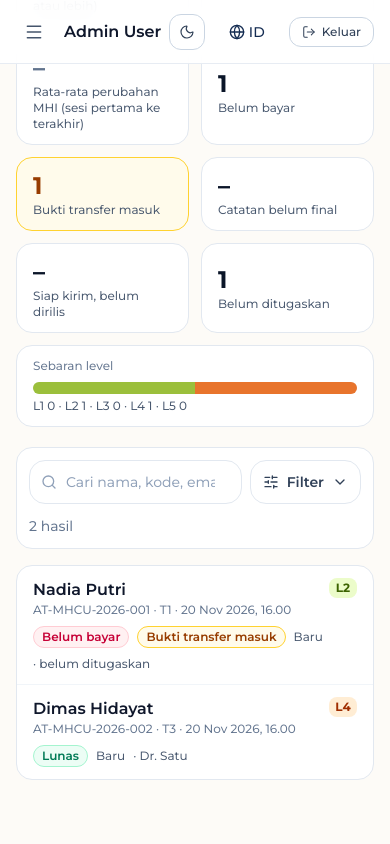
Test case: MHCU dashboard › stops the own addition at 500 characters
This screenshot has width=390, height=844.
(page scrolled)
Step 1. Click the button "Nadia Putri" → point(195, 625), box top-left (17, 566), bottom-right (373, 684)
(page scrolled)
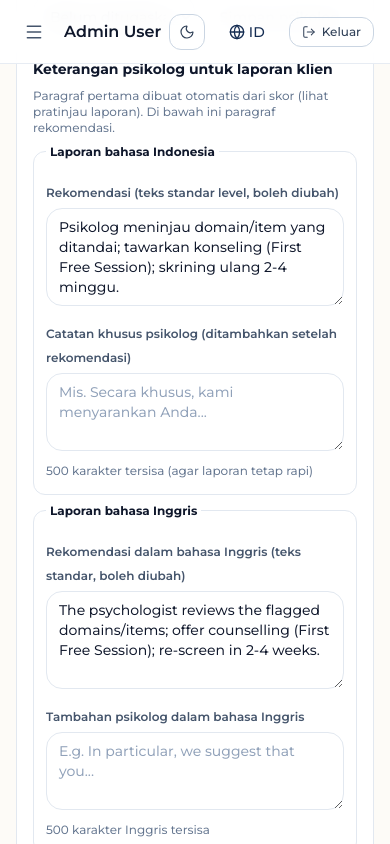
Check: the text "500 karakter tersisa (agar laporan tetap rapi)" is shown, box top-left (46, 463), bottom-right (313, 478)
